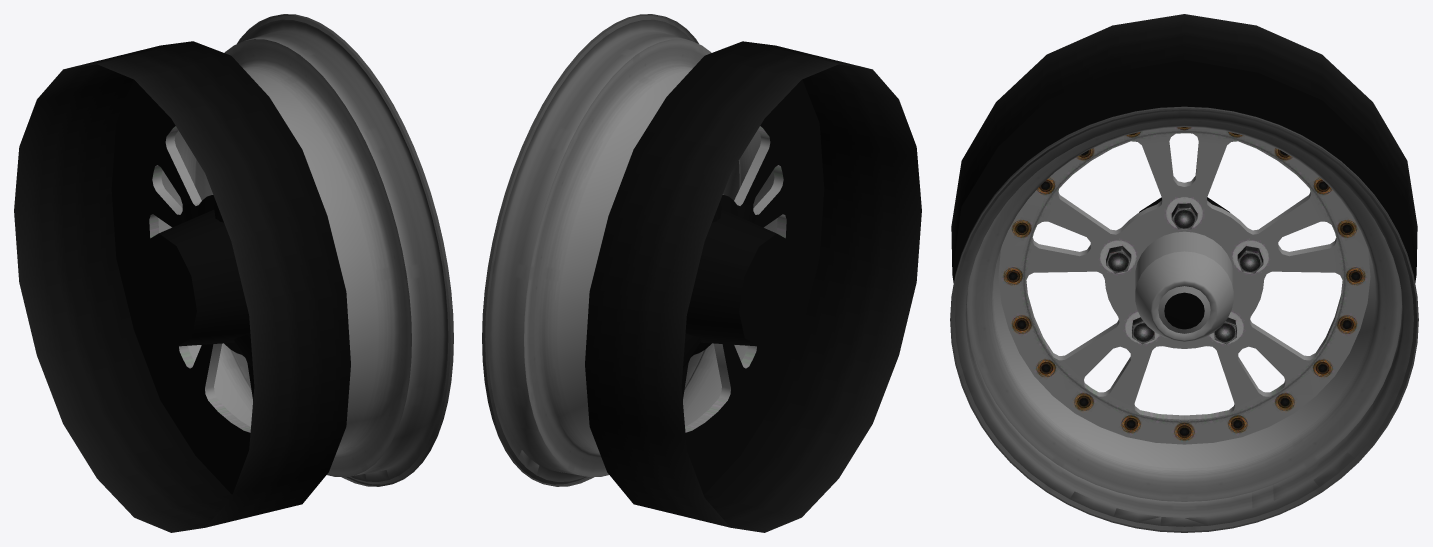
Rendered from wheel43.fbx.
3 renders of one model, left to right at view 1: azimuth 30°, elevation 25°; view 2: azimuth 150°, elevation 25°; view 3: azimuth 270°, elevation 25°, orthographic. The views are drawn at different scales.
Visible parts, largest first — view 1: hol_sunstar_wheel_wheel_inner_rim_, wheel_rim, hol_sunstar_wheel_wheel_rim_; view 2: hol_sunstar_wheel_wheel_inner_rim_, wheel_rim, hol_sunstar_wheel_wheel_rim_; view 3: wheel_rim, hol_sunstar_wheel_wheel_rim_, hol_sunstar_wheel_wheel_inner_rim_.
Part boxes in pixels (x1,y1,x2,y2): hol_sunstar_wheel_wheel_inner_rim_: [14, 41, 350, 532]; wheel_rim: [158, 14, 453, 486]; hol_sunstar_wheel_wheel_rim_: [149, 126, 250, 432]; hol_sunstar_wheel_wheel_inner_rim_: [585, 41, 921, 532]; wheel_rim: [482, 14, 777, 486]; hol_sunstar_wheel_wheel_rim_: [685, 126, 786, 432]; wheel_rim: [950, 106, 1418, 532]; hol_sunstar_wheel_wheel_rim_: [998, 127, 1370, 444]; hol_sunstar_wheel_wheel_inner_rim_: [951, 14, 1417, 282].
Bounding box in the file's own units: 0.2283 × 0.4804 × 0.48.
1 material, 1 textured.
